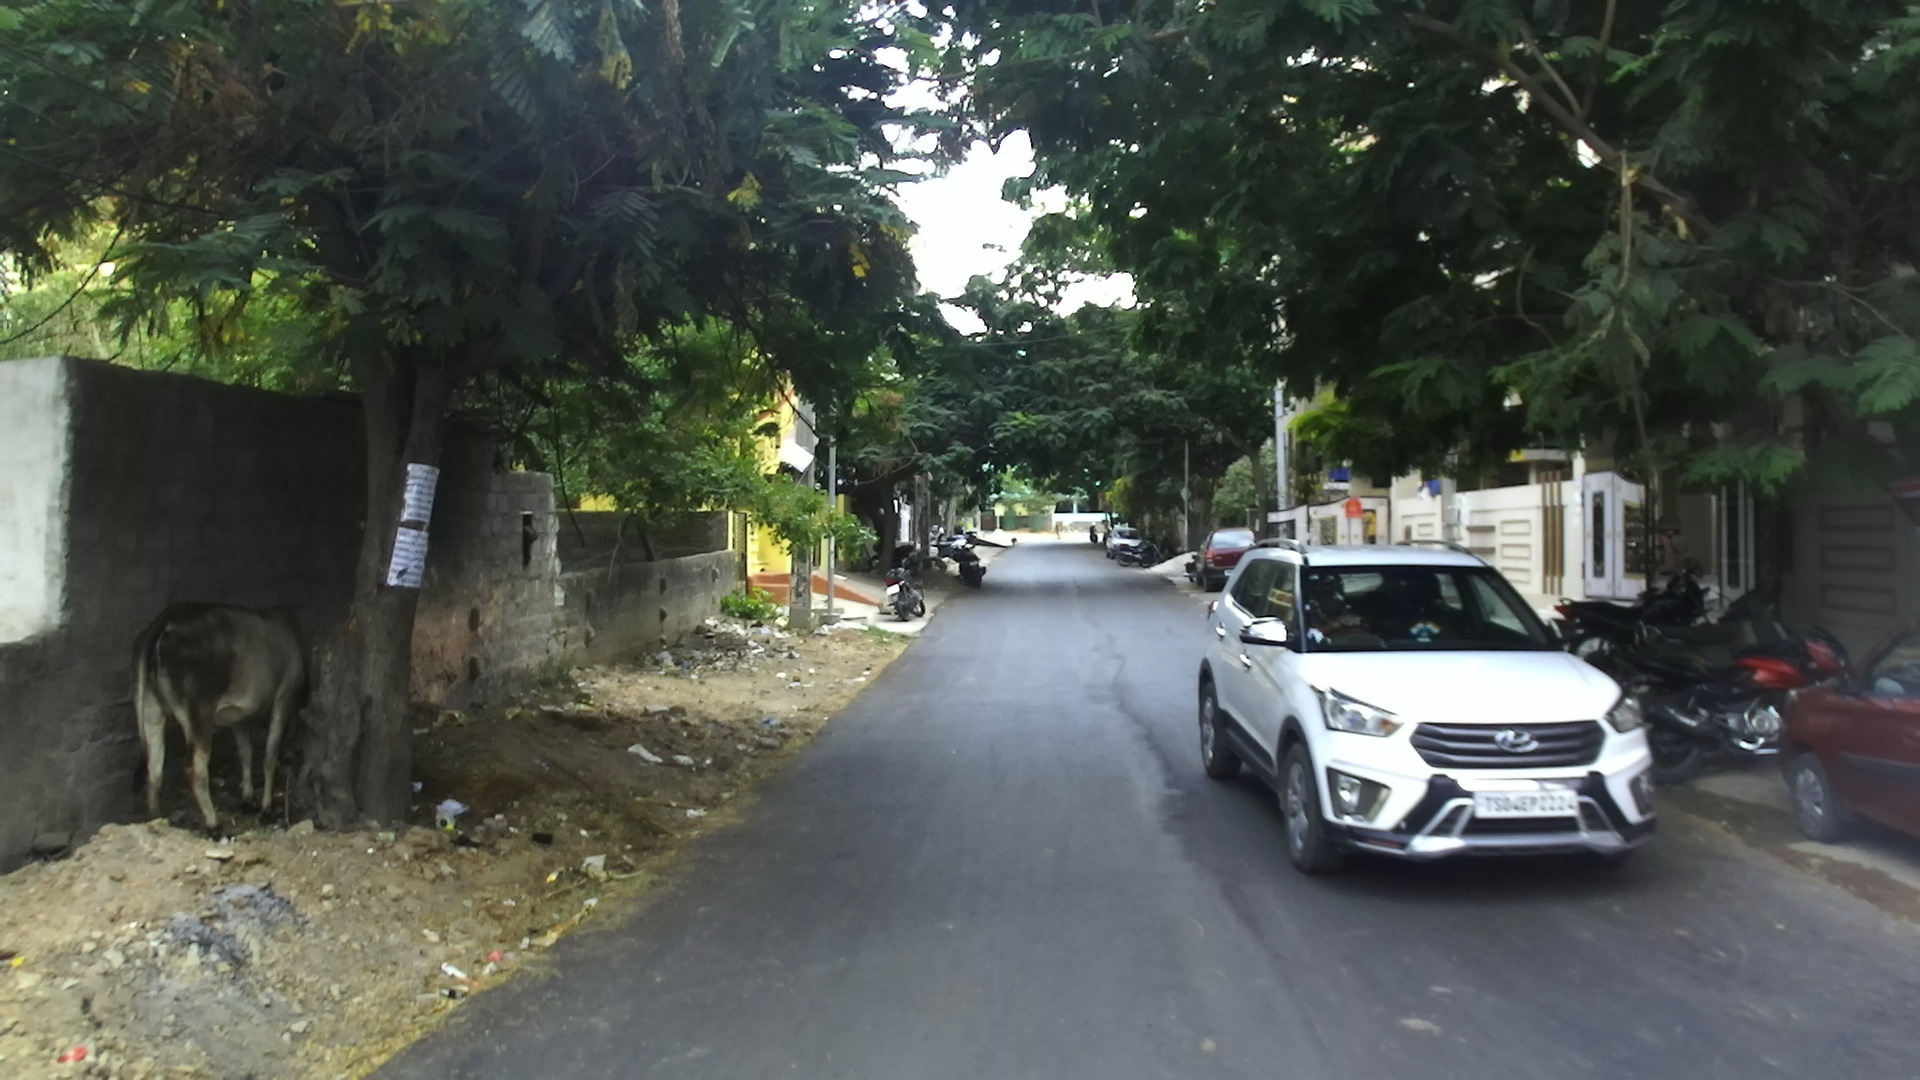vehicle: (1191, 545, 1662, 872), (1553, 583, 1847, 767), (1557, 585, 1846, 764), (1779, 629, 1919, 851), (1197, 527, 1254, 585), (1102, 526, 1150, 566)
